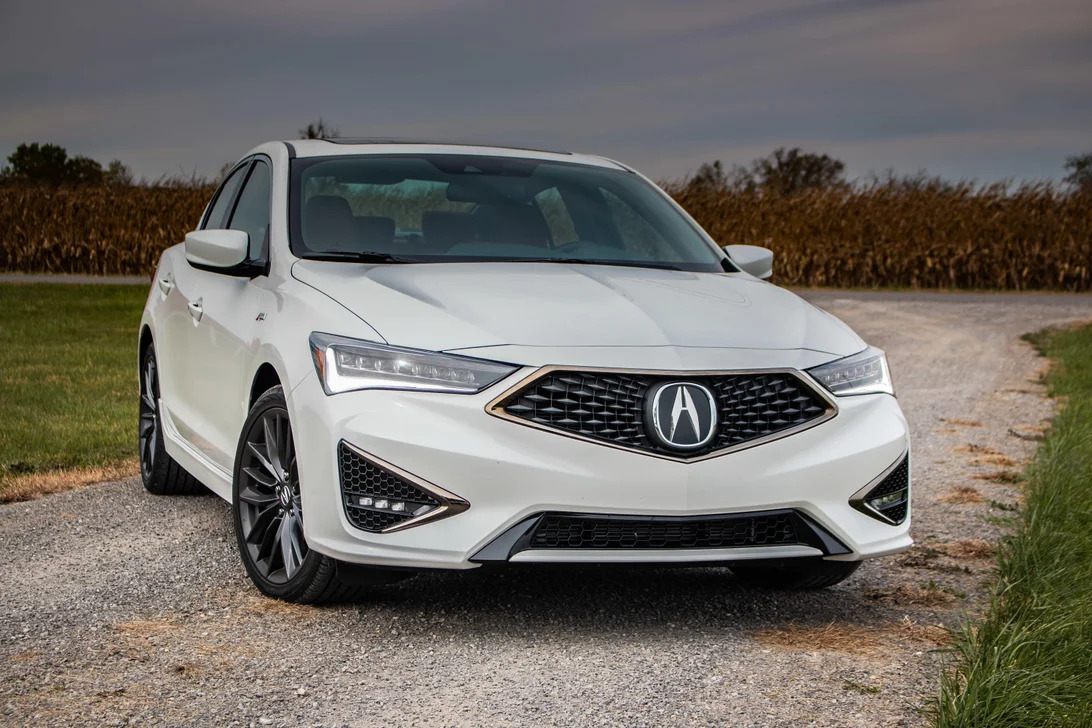Fog Lamp & Scope: (340, 458, 443, 534)
Front: (294, 279, 917, 569)
Front Bumper: (298, 439, 915, 569)
Grill: (514, 371, 807, 449)
Headlight: (307, 333, 497, 397)
